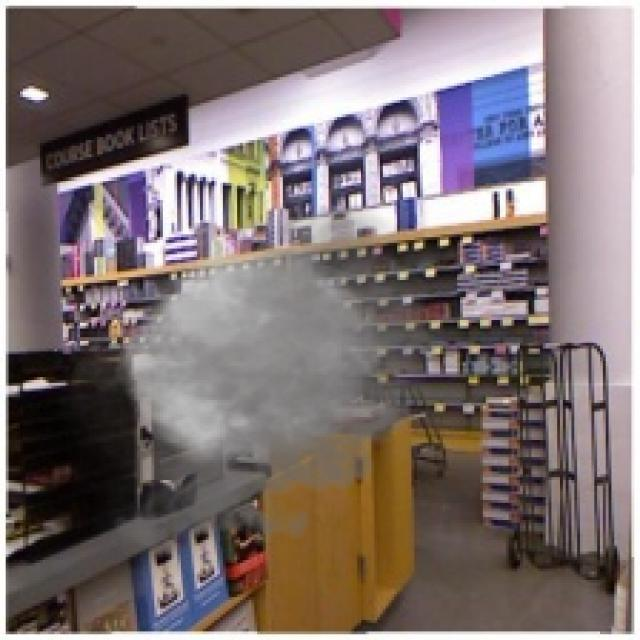Smoke: (46, 191, 460, 563)
